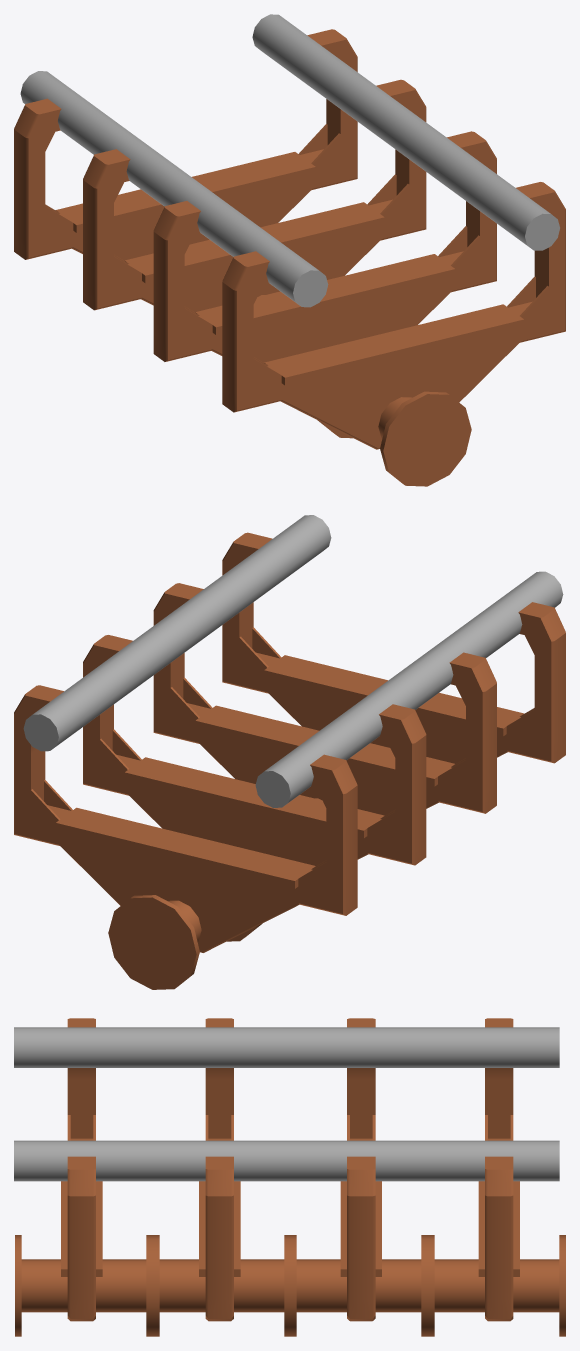
Rendered from rail droit.fbx.
3 views of the same model, one above another, from view 1: azimuth 30°, elevation 25°; view 2: azimuth 150°, elevation 25°; view 3: azimuth 270°, elevation 25° (orthographic).
Parts seen in each view (by area): view 1: pCylinder14; view 2: pCylinder14; view 3: pCylinder14.
Part boxes in pixels (box(x1,y1,x2,y2)): pCylinder14: box(14, 14, 565, 486); pCylinder14: box(14, 515, 565, 989); pCylinder14: box(14, 1018, 565, 1336).
Size of the model in its own units: 7.24 by 5.11 by 10.41.
